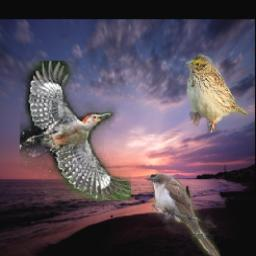Cuckoo: (148, 174, 222, 256)
Sparrow: (183, 54, 248, 134)
Woodpecker: (21, 61, 132, 200)
